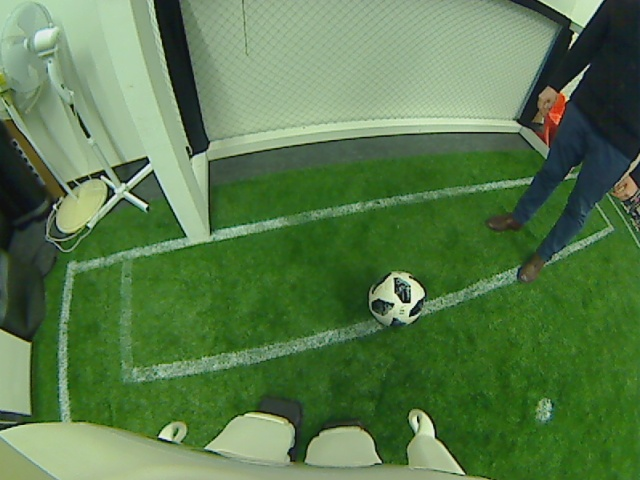ball: (366, 268, 426, 328)
